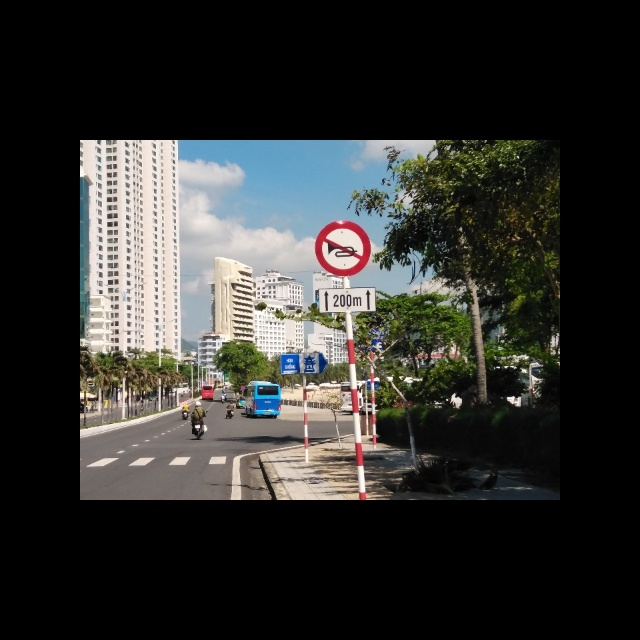Cấm bấm còi: (314, 220, 371, 276)
